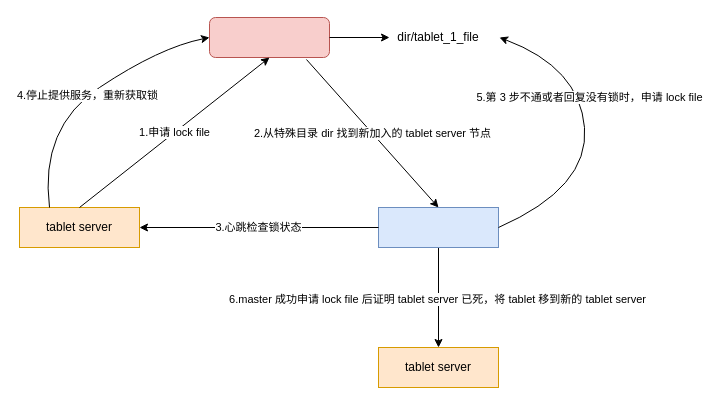
Image size: 720x405. Some labels were removed from this diagram. The box of each missing label's shape, as (x1, y1, x2, y2) in pixels:
chubby: (208, 16, 330, 58)
master: (378, 206, 498, 248)
